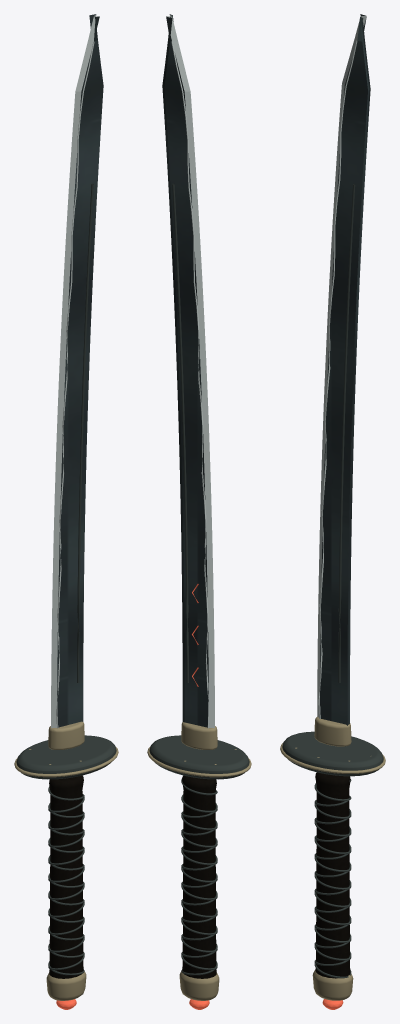
Rendered from long_sword_blender.glb.
3 views of the same model, side by side, from view 1: azimuth 30°, elevation 25°; view 2: azimuth 150°, elevation 25°; view 3: azimuth 330°, elevation 25° (orthographic).
Visible parts, largest first — view 1: Tempered blade, Grip, Tsuba, Recessed fuller.001, Hamon temper line.001, Pommel, Blade collar, Tsuba edge; view 2: Tempered blade, Grip, Tsuba, Recessed fuller, Hamon temper line, Pommel, Blade collar, Tsuba edge; view 3: Tempered blade, Grip, Tsuba, Recessed fuller.001, Hamon temper line.001, Blade collar, Pommel, Tsuba edge.
Boxes of the visible parts, x1,y1,x2,y2 form: Tempered blade: (51, 14, 103, 728); Grip: (49, 775, 83, 978); Tsuba: (16, 735, 116, 779); Recessed fuller.001: (77, 183, 93, 682); Hamon temper line.001: (56, 41, 94, 728); Pommel: (46, 971, 86, 1000); Blade collar: (48, 721, 84, 749); Tsuba edge: (14, 747, 118, 777); Tempered blade: (162, 14, 214, 728); Grip: (182, 775, 216, 978); Tsuba: (149, 735, 249, 779); Recessed fuller: (172, 183, 188, 682); Hamon temper line: (171, 41, 209, 728); Pommel: (179, 971, 219, 1000); Blade collar: (181, 722, 217, 749); Tsuba edge: (147, 747, 251, 777); Tempered blade: (317, 14, 370, 725); Grip: (315, 772, 350, 978); Tsuba: (282, 731, 383, 776); Recessed fuller.001: (338, 184, 355, 682); Hamon temper line.001: (318, 40, 357, 718); Blade collar: (314, 716, 351, 746); Pommel: (312, 970, 353, 1000); Tsuba edge: (280, 743, 385, 773).
Size of the model in its own units: 0.134 by 1.3 by 0.0898.
6 materials, 2 textured.
